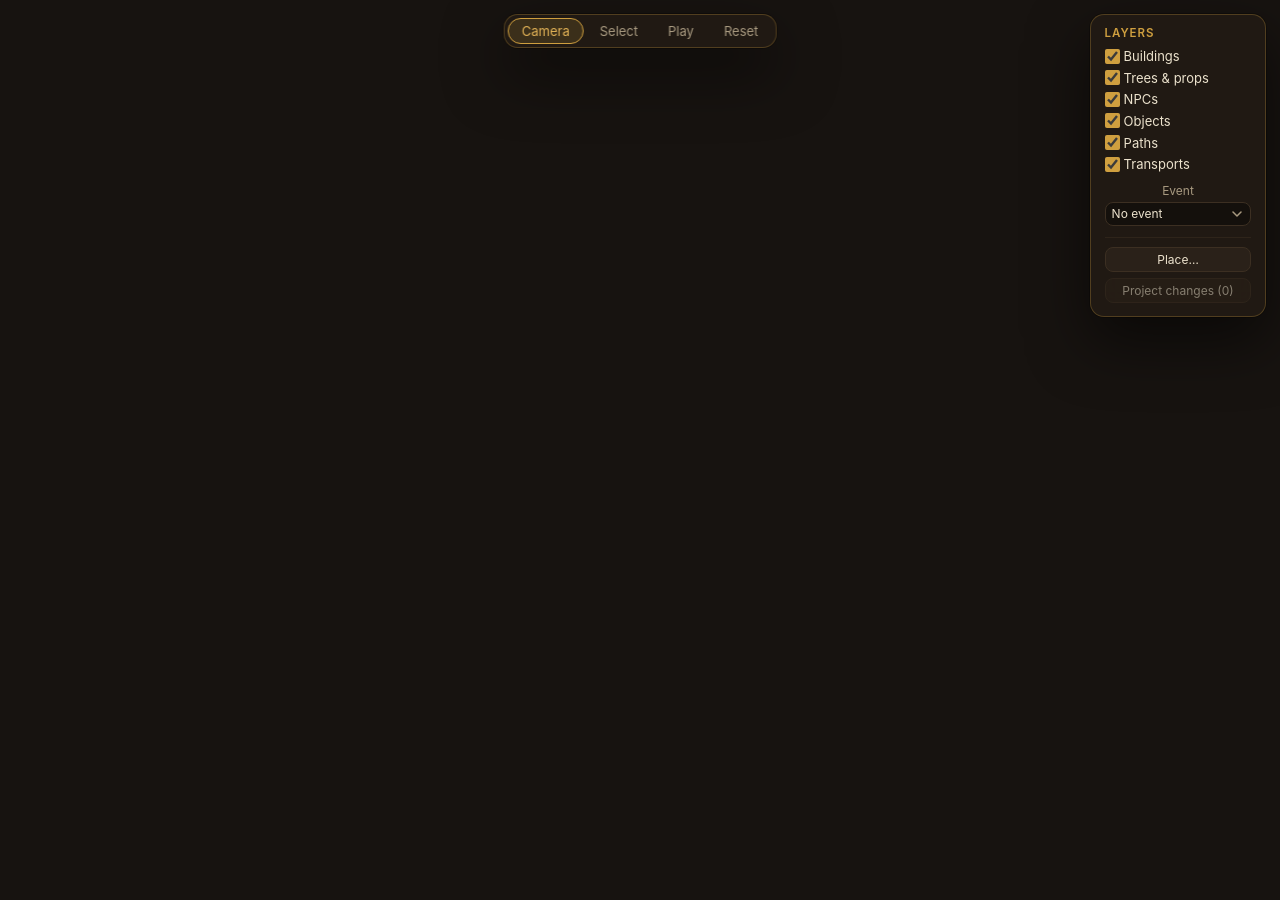
Test: placing an existing NPC or object from the 3D view › says when nothing matches
Click the button "Place…": [1178, 259] box [1105,247,1251,272]
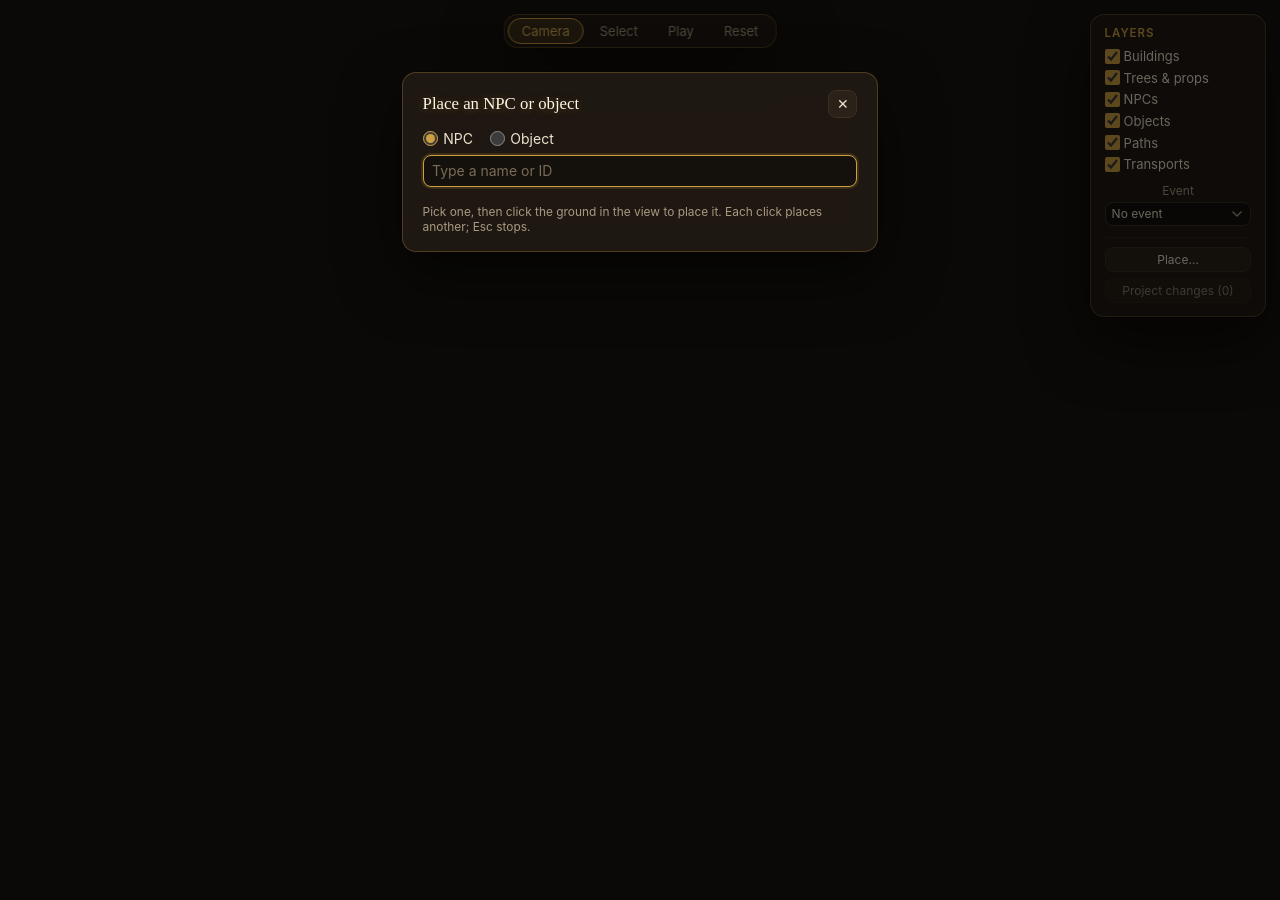
In the search field named "Find by name or ID": [640, 171] box [423,155,857,187], type "zzz"
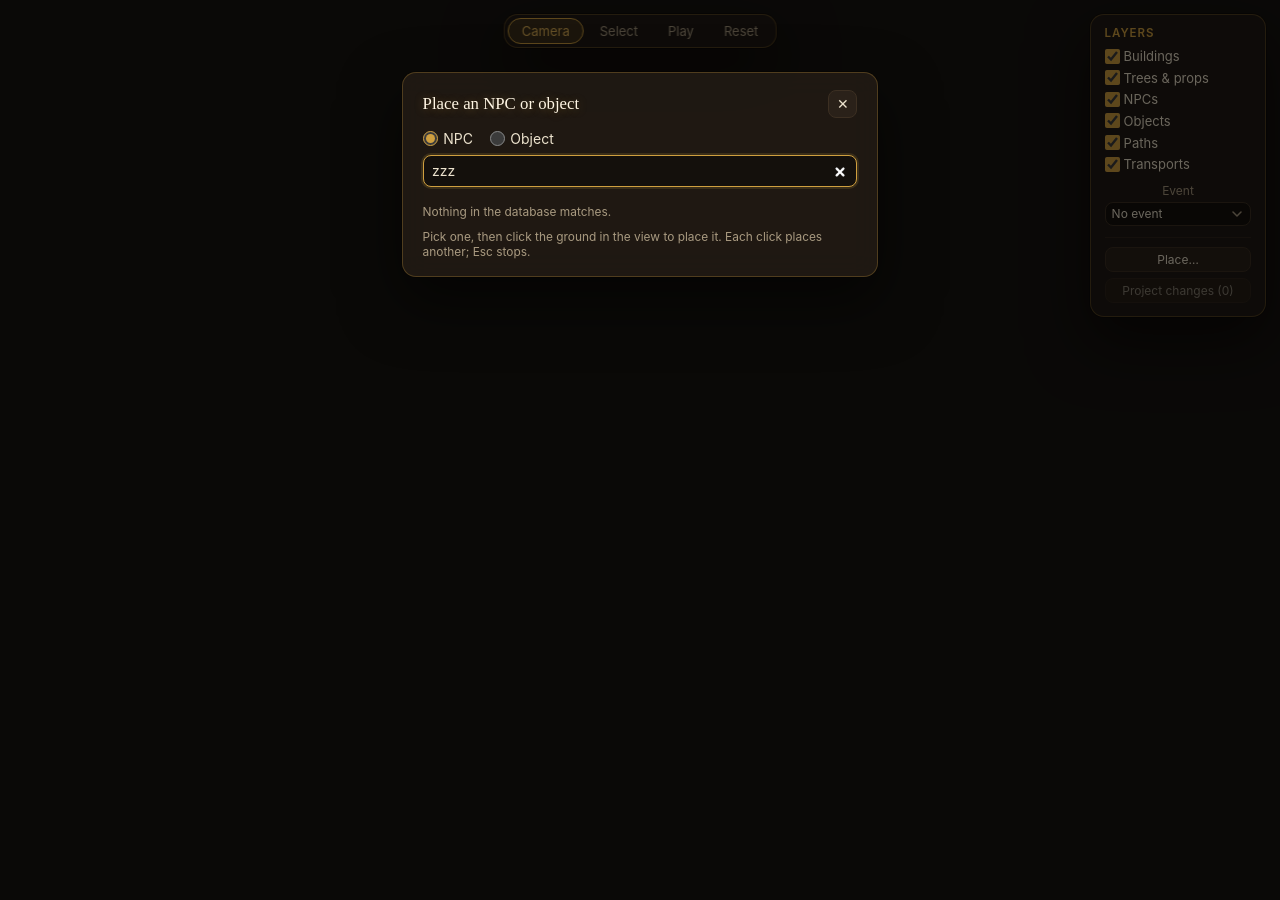
Expected: the text "Nothing in the database matches." is shown, [423,204,611,220]
